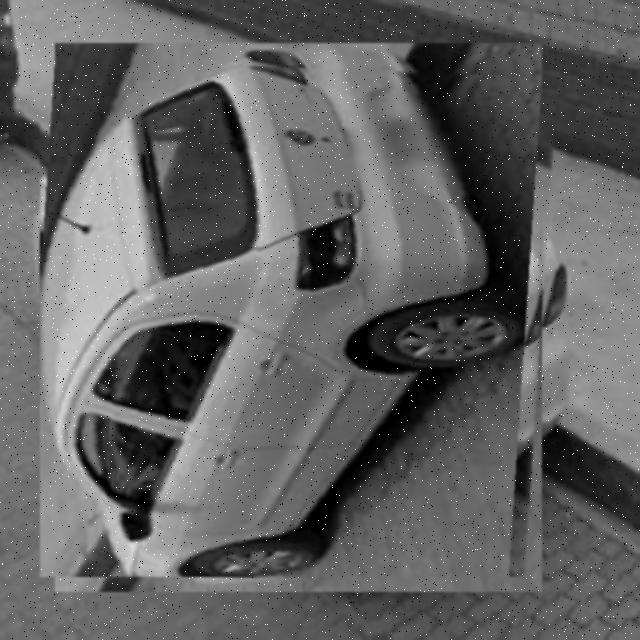car: (41, 59, 559, 578)
